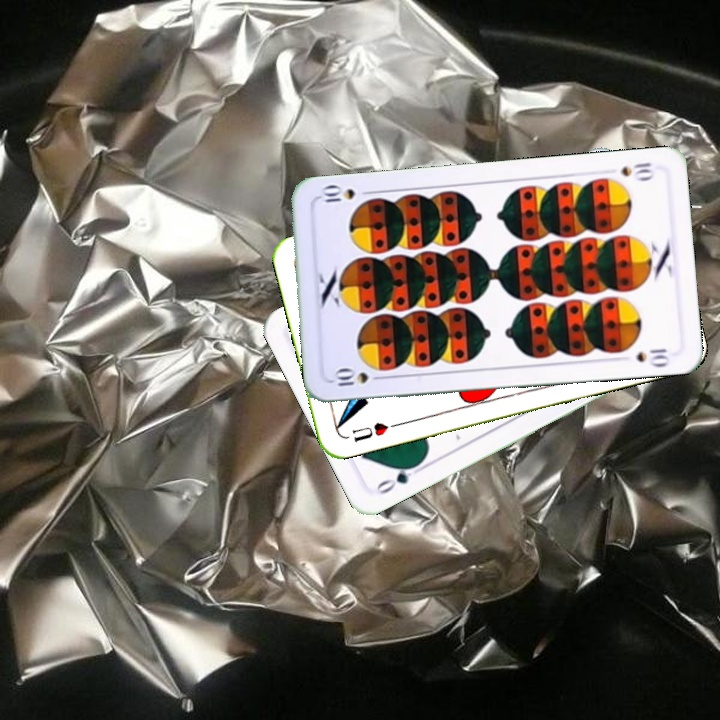GO: (371, 458, 427, 497)
HU: (348, 418, 401, 445)
S10: (328, 366, 388, 389), (617, 158, 656, 183)
